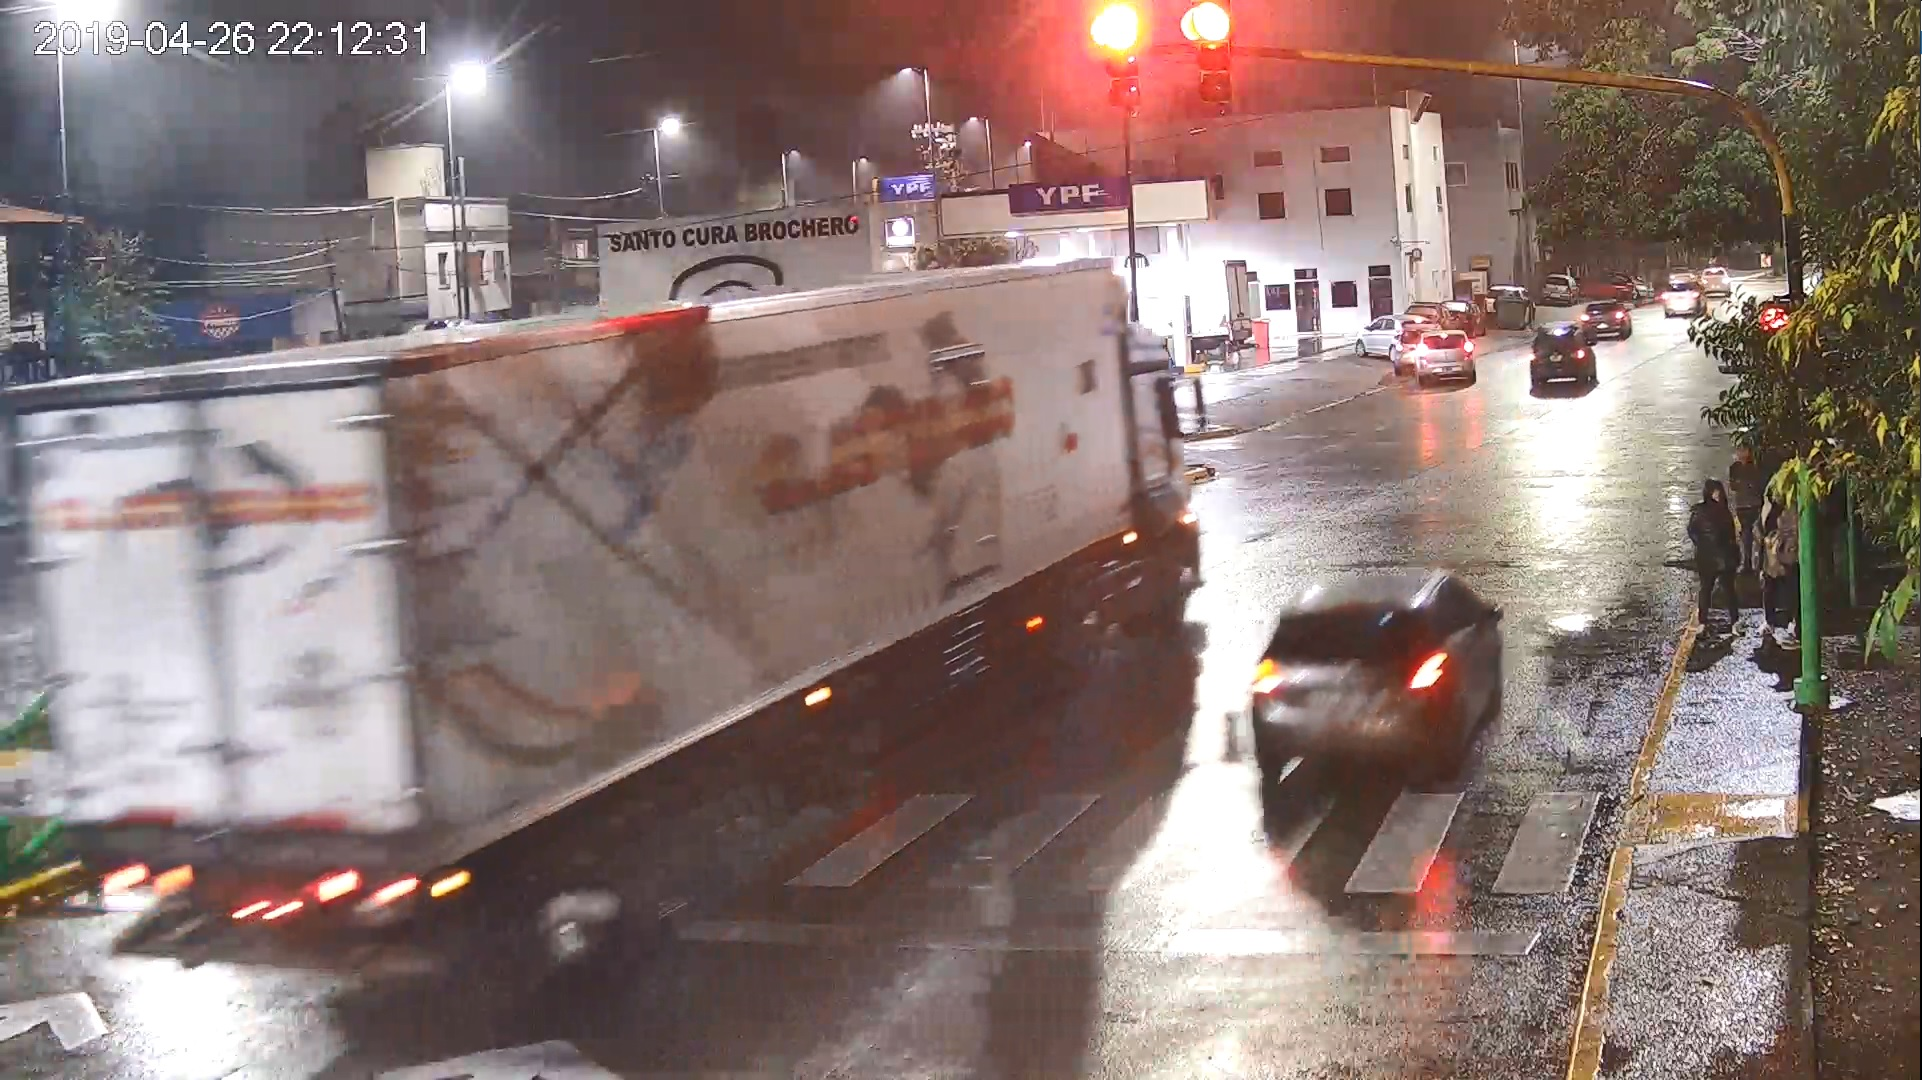car: (1243, 545, 1511, 829), (1515, 325, 1610, 397), (1414, 329, 1478, 391)
truck: (15, 246, 1224, 948)
